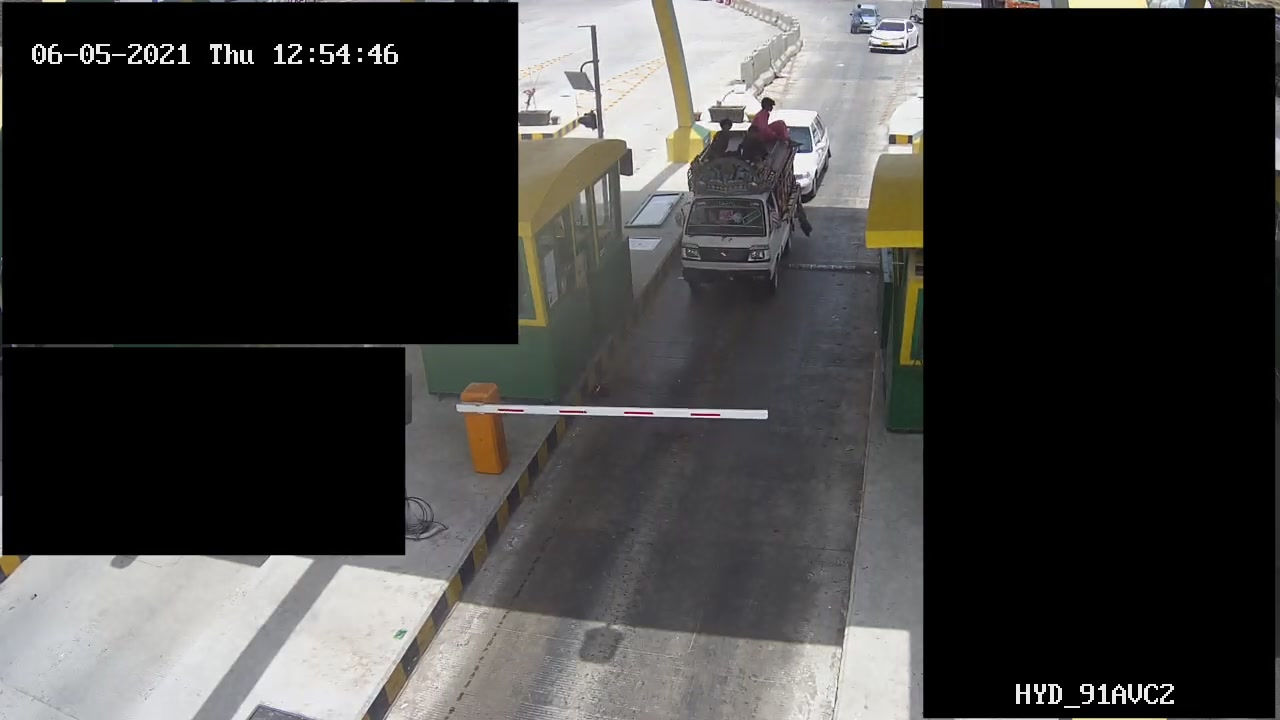F1: (680, 121, 807, 299)
